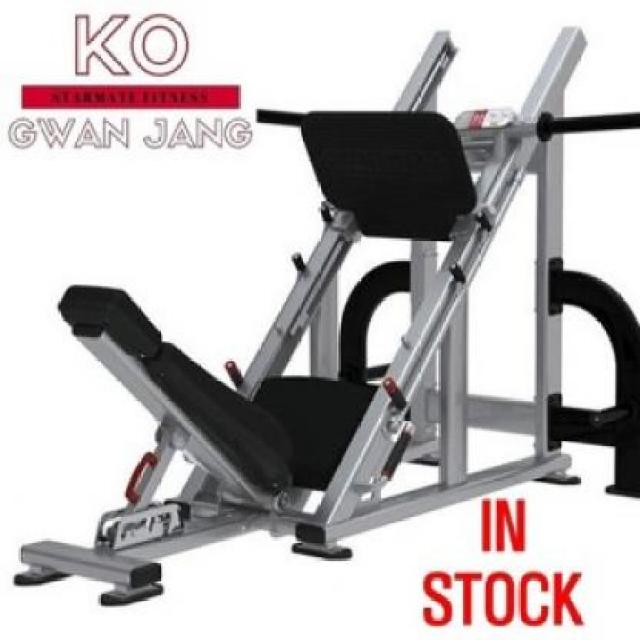leg press: (9, 25, 640, 608)
